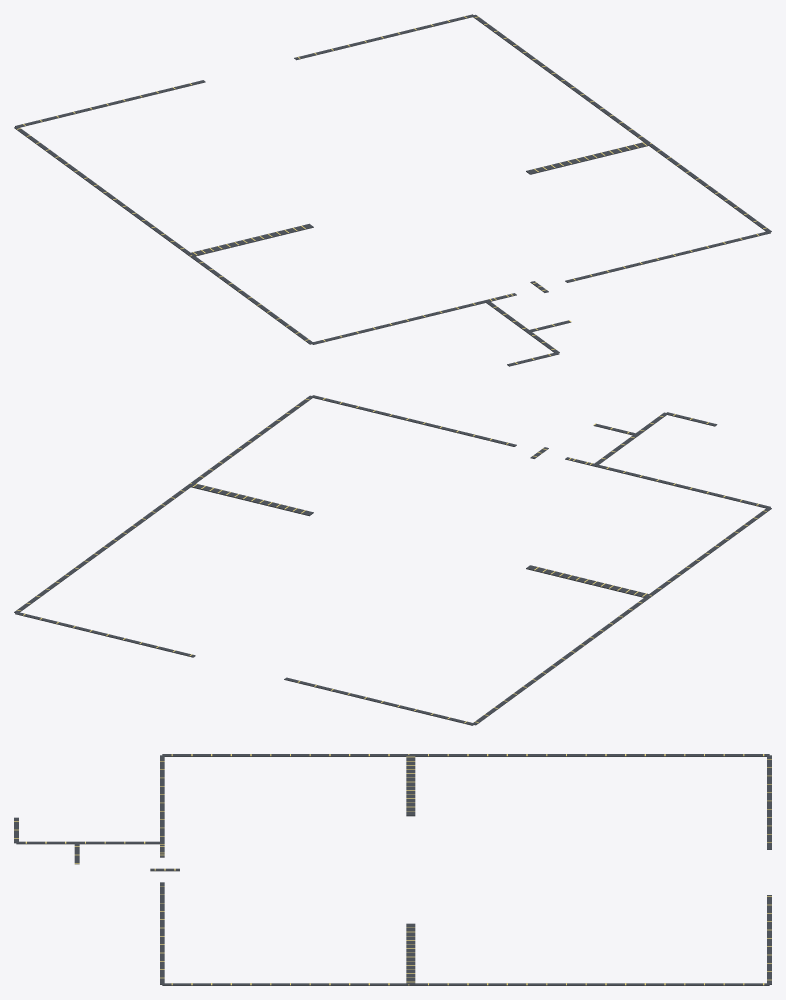
The model's file is SM_Cables.glb.
3 renders of one model, top to bottom at view 1: azimuth 30°, elevation 25°; view 2: azimuth 150°, elevation 25°; view 3: azimuth 270°, elevation 25°, orthographic. The views are drawn at different scales.
Visible parts, largest first — view 1: SM_Cables_13, SM_Cables_85, SM_Cables_72, SM_Cables_0, SM_Cables_57, SM_Cables_45, SM_Cables_129, SM_Cables_117; view 2: SM_Cables_13, SM_Cables_85, SM_Cables_72, SM_Cables_0, SM_Cables_129, SM_Cables_45, SM_Cables_57, SM_Cables_117; view 3: SM_Cables_85, SM_Cables_13, SM_Cables_129, SM_Cables_57, SM_Cables_0, SM_Cables_72, SM_Cables_45, SM_Cables_117.
Boxes of the visible parts, x1,y1,x2,y2 form: SM_Cables_13: (14, 126, 312, 344); SM_Cables_85: (472, 14, 771, 232); SM_Cables_72: (565, 231, 770, 282); SM_Cables_0: (311, 293, 516, 344); SM_Cables_57: (189, 223, 313, 256); SM_Cables_45: (15, 80, 205, 127); SM_Cables_129: (526, 141, 650, 174); SM_Cables_117: (294, 14, 474, 60); SM_Cables_13: (472, 508, 771, 725); SM_Cables_85: (14, 395, 313, 612); SM_Cables_72: (311, 395, 516, 446); SM_Cables_0: (565, 457, 770, 508); SM_Cables_129: (189, 483, 313, 516); SM_Cables_45: (284, 677, 473, 725); SM_Cables_57: (526, 565, 650, 597); SM_Cables_117: (15, 612, 195, 657); SM_Cables_85: (162, 983, 769, 985); SM_Cables_13: (162, 754, 769, 756); SM_Cables_129: (406, 923, 415, 984); SM_Cables_57: (406, 755, 415, 816); SM_Cables_0: (160, 755, 164, 857); SM_Cables_72: (160, 882, 164, 984); SM_Cables_45: (767, 755, 771, 849); SM_Cables_117: (767, 895, 771, 984).
Size of the model in its own units: 55.5 by 0.102 by 76.9.
